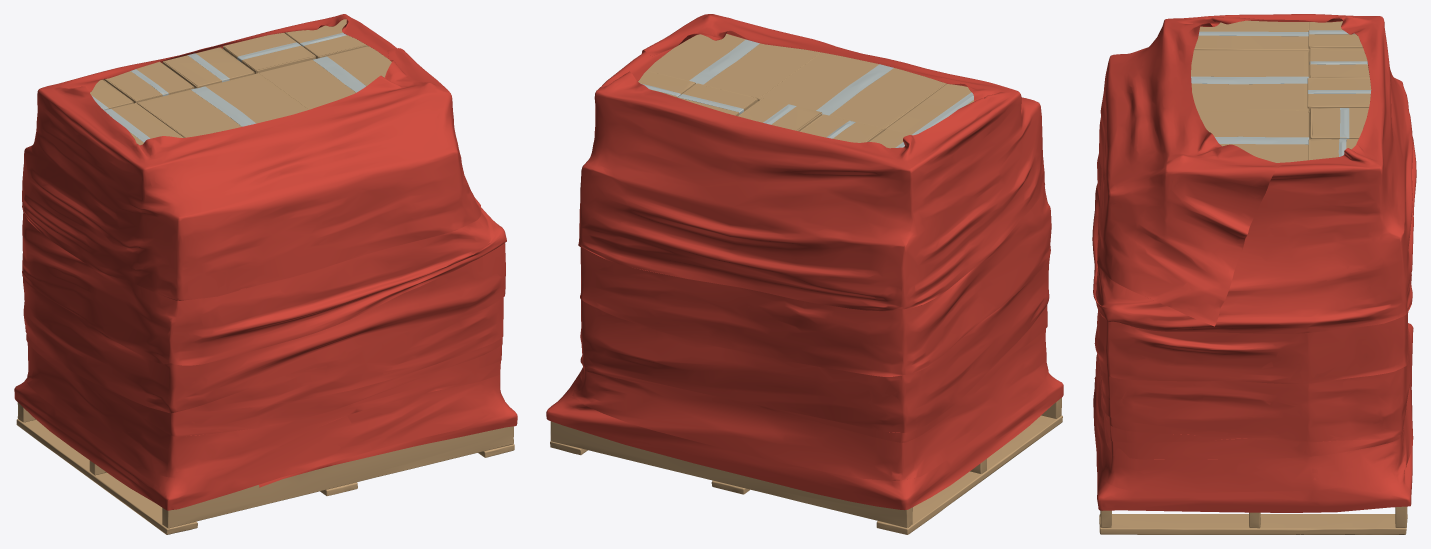
The model's file is pallet_assembly_red_a06.glb.
3 renders of one model, left to right at view 1: azimuth 30°, elevation 25°; view 2: azimuth 150°, elevation 25°; view 3: azimuth 270°, elevation 25°, orthographic. The views are drawn at different scales.
Size of the model in its own units: 1.22 by 1.15 by 0.9341.
